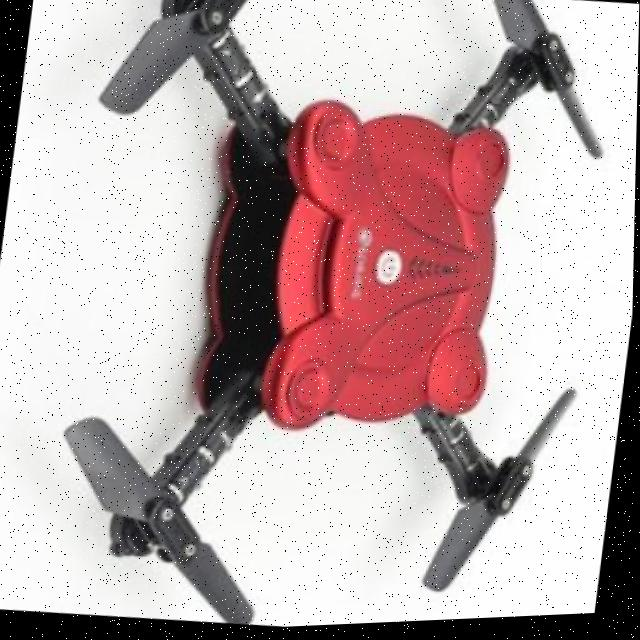drones: (1, 0, 630, 640)
